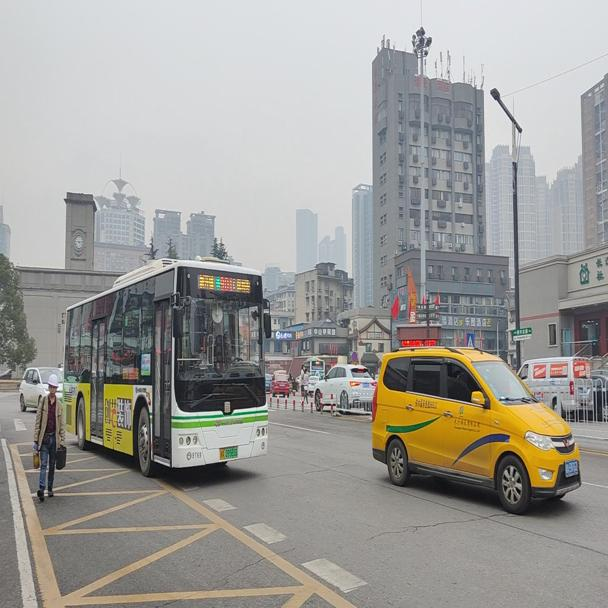bus: (60, 254, 272, 477)
screen: (221, 275, 232, 291)
